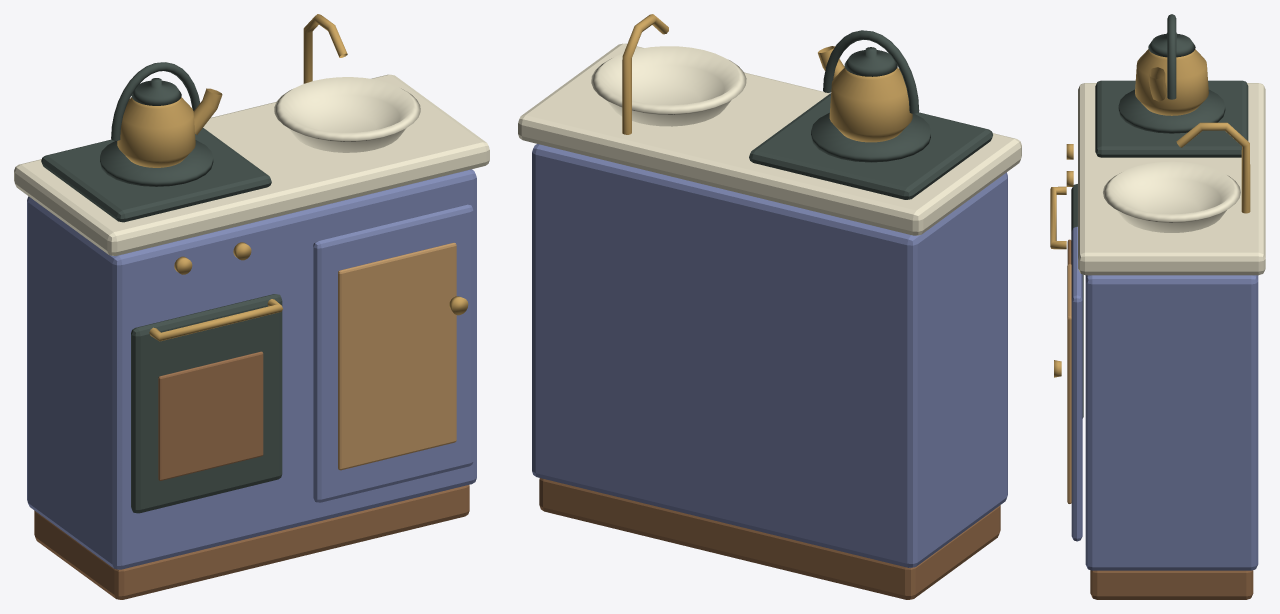
The model's file is wagon-galley.glb.
3 renders of one model, left to right at view 1: azimuth 30°, elevation 25°; view 2: azimuth 150°, elevation 25°; view 3: azimuth 270°, elevation 25°, orthographic. The views are drawn at different scales.
Visible parts, largest first — view 1: galley cabinet, cream worktop, cupboard inset.001, cupboard door.001, stove door, plinth.001, stove glass inset, wash basin, single burner stove, kettle, cast burner.002, kettle handle (+4 smaller); view 2: galley cabinet, cream worktop, plinth.001, single burner stove, wash basin, kettle, cast burner.002, kettle handle, brass tap, kettle lid; view 3: galley cabinet, cream worktop, wash basin, single burner stove, plinth.001, cupboard door.001, kettle, cast burner.002, brass tap, cupboard inset.001, kettle handle, kettle lid (+3 smaller).
Boxes of the visible parts, x1,y1,x2,y2 form: galley cabinet: (27, 169, 476, 569); cream worktop: (14, 74, 489, 255); cupboard inset.001: (338, 242, 456, 470); cupboard door.001: (313, 204, 473, 502); stove door: (131, 294, 282, 513); plinth.001: (34, 485, 469, 599); stove glass inset: (158, 351, 263, 480); wash basin: (274, 77, 420, 152); single burner stove: (41, 128, 271, 222); kettle: (117, 97, 195, 167); cast burner.002: (100, 140, 213, 186); kettle handle: (111, 62, 199, 140); galley cabinet: (532, 144, 1007, 567); cream worktop: (518, 43, 1021, 235); plinth.001: (539, 478, 1000, 599); single burner stove: (749, 93, 992, 199); wash basin: (591, 46, 746, 126); kettle: (829, 67, 912, 142); cast burner.002: (811, 113, 930, 162); kettle handle: (823, 30, 919, 113); brass tap: (622, 14, 668, 134); kettle lid: (844, 47, 897, 76); galley cabinet: (1085, 275, 1258, 570); cream worktop: (1078, 83, 1265, 275); wash basin: (1103, 161, 1240, 232); single burner stove: (1095, 80, 1248, 157); plinth.001: (1090, 570, 1253, 599); cupboard door.001: (1071, 226, 1082, 541); kettle: (1135, 49, 1208, 115); cast burner.002: (1118, 89, 1225, 133); brass tap: (1176, 122, 1250, 213); cupboard inset.001: (1067, 264, 1071, 503); kettle handle: (1167, 14, 1176, 99); kettle lid: (1148, 32, 1195, 57).
Size of the model in its own units: 0.84 by 1.03 by 0.4364.
